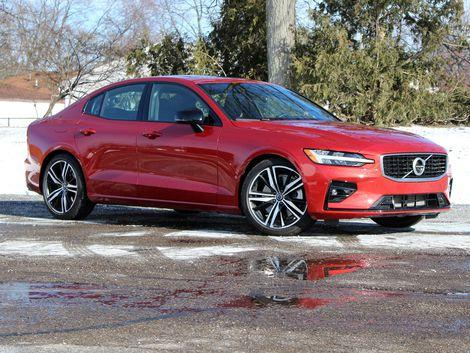car: (23, 69, 450, 235)
